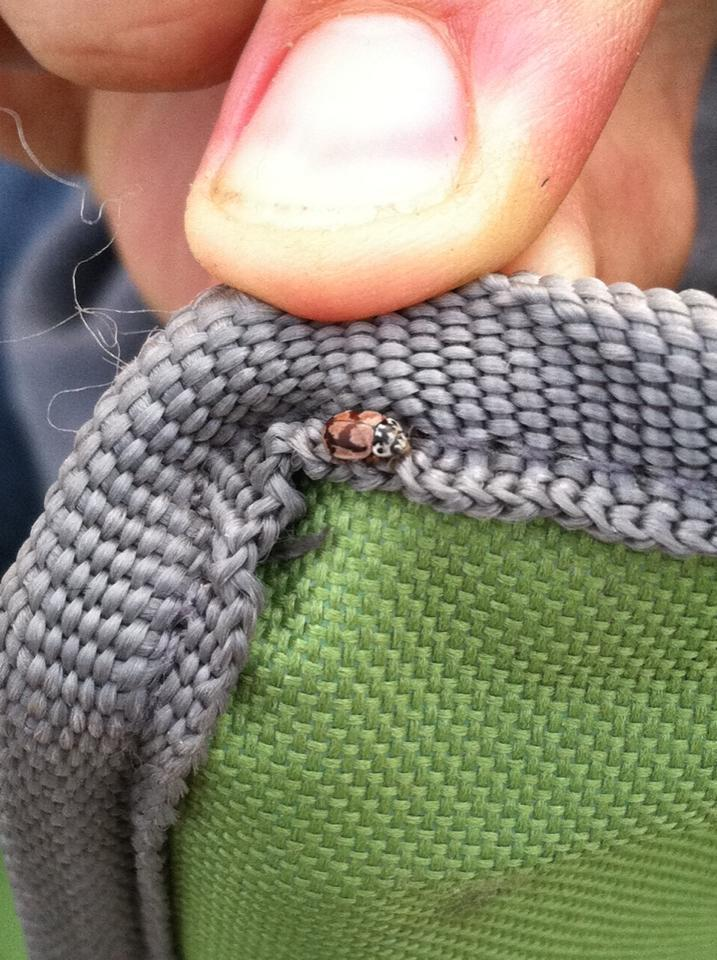ladybug: (320, 406, 419, 471)
